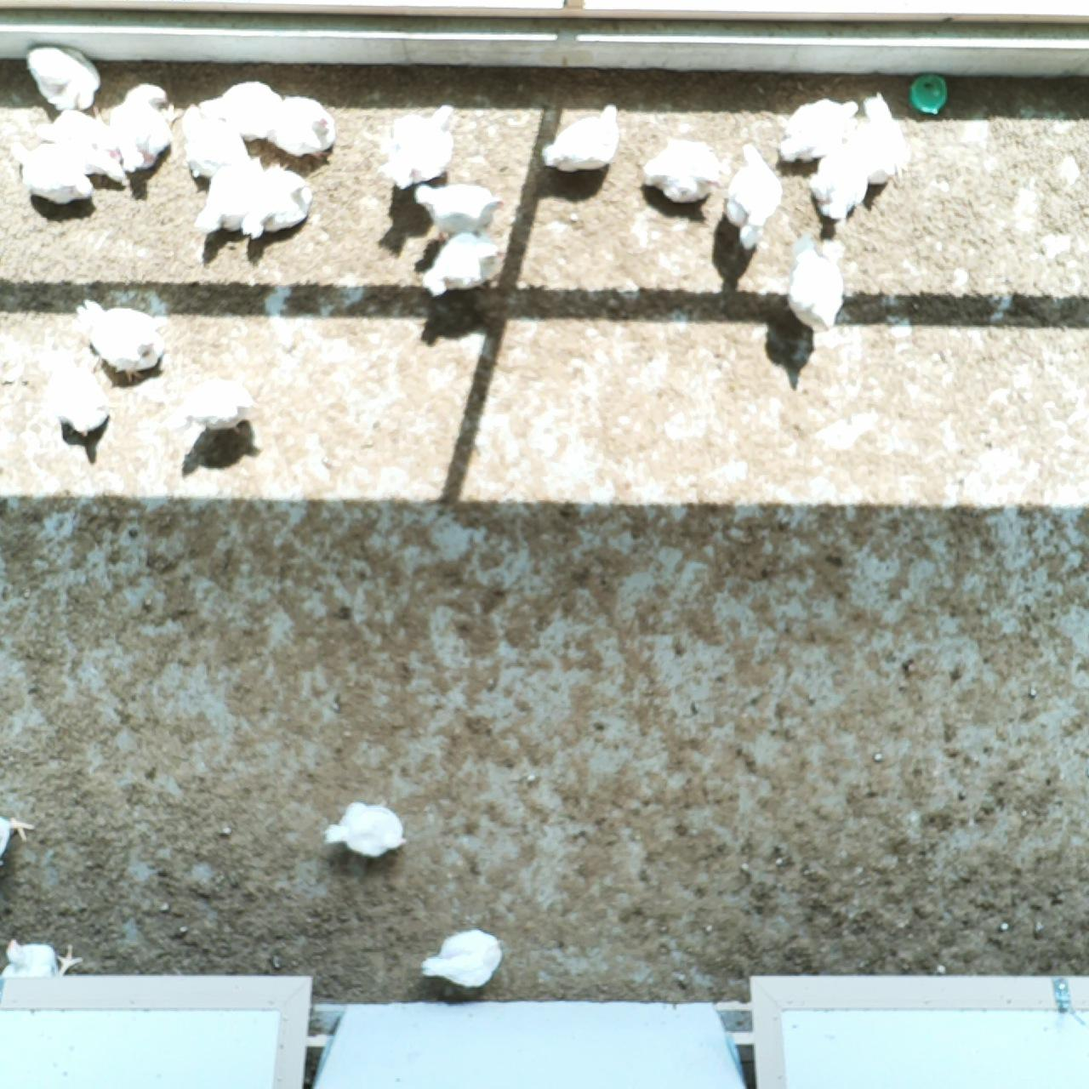chicken: (70, 296, 172, 386), (719, 136, 784, 247), (3, 135, 96, 212), (38, 344, 110, 440), (192, 154, 272, 240), (110, 79, 181, 174), (379, 103, 456, 189), (540, 101, 622, 179), (0, 934, 83, 1011), (32, 107, 127, 173), (852, 91, 914, 192), (417, 229, 505, 300), (176, 371, 262, 442), (177, 100, 253, 179), (416, 925, 505, 992), (237, 164, 313, 242), (322, 797, 409, 864), (803, 140, 869, 228), (777, 95, 859, 165), (24, 40, 103, 112), (640, 141, 721, 211), (786, 241, 846, 334), (413, 179, 507, 238), (202, 78, 282, 145), (266, 91, 334, 164), (0, 804, 39, 886)
